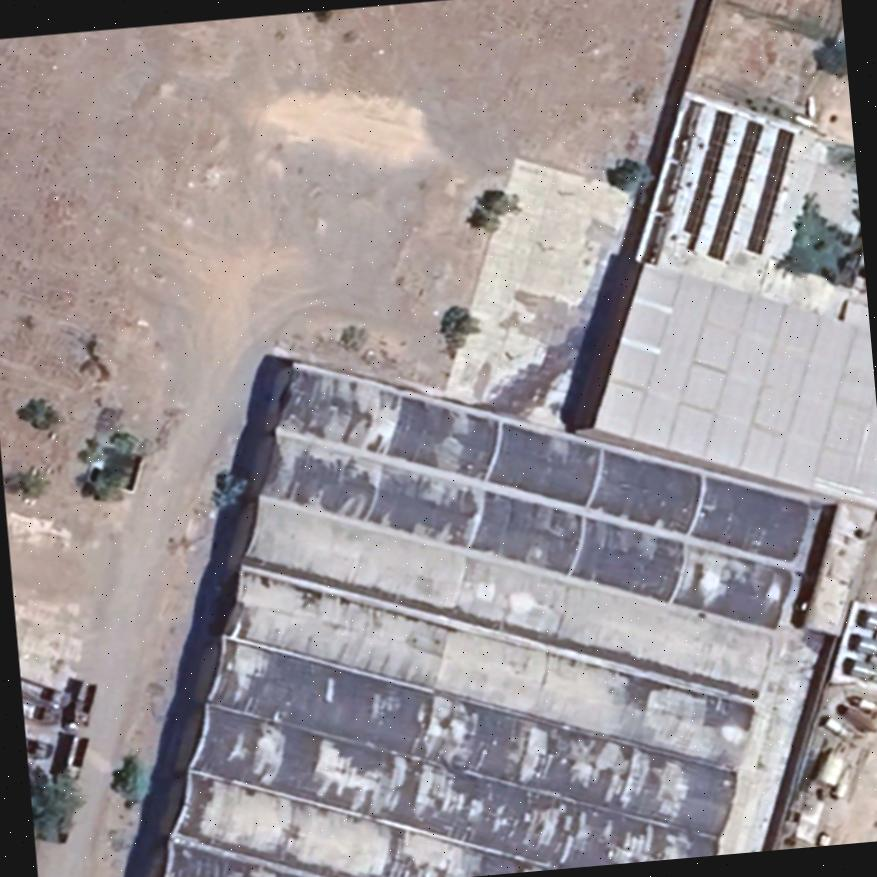Solarpanel: (703, 113, 763, 263), (675, 104, 733, 252), (742, 121, 793, 259)
